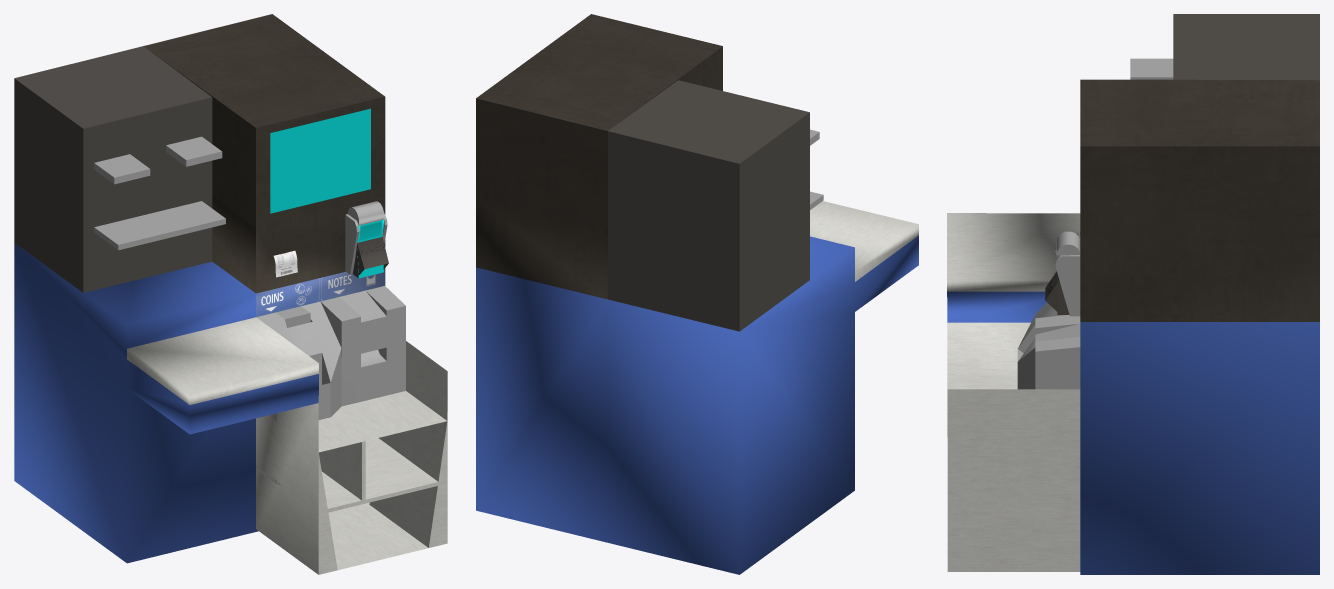
File: Ridith.fbx
The picture shows the model from 3 angles, left to right: view 1: azimuth 30°, elevation 25°; view 2: azimuth 150°, elevation 25°; view 3: azimuth 270°, elevation 25°; orthographic projection. The views are drawn at different scales.
Visible parts, largest first — view 1: Doris_MA1_Base; view 2: Doris_MA1_Base; view 3: Doris_MA1_Base.
Boxes of the visible parts, box(x1,y1,x2,y2) form: Doris_MA1_Base: box(14, 14, 447, 574); Doris_MA1_Base: box(476, 14, 918, 574); Doris_MA1_Base: box(947, 14, 1319, 574).
Bounding box in the file's own units: 1.13 × 1.69 × 1.33.
4 materials, 3 textured.
